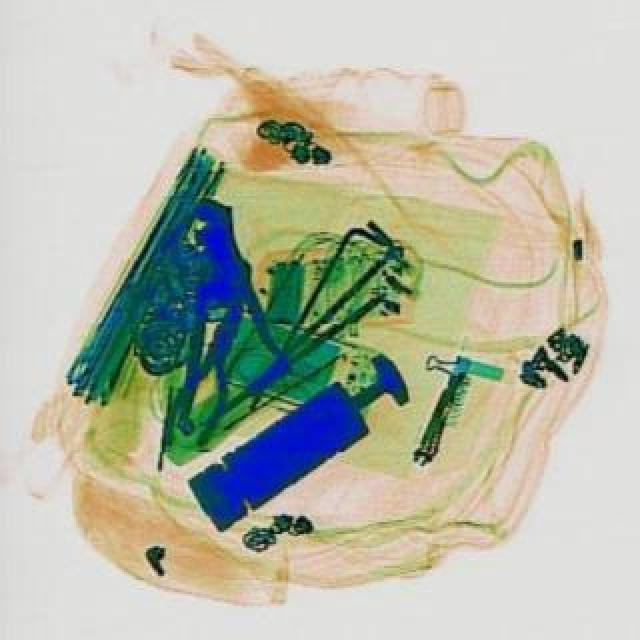wrench: (142, 190, 302, 434), (160, 294, 260, 448)
